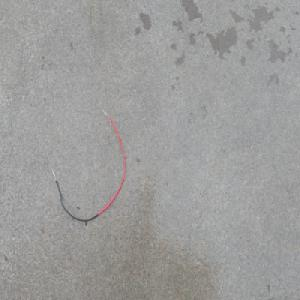Wire: (49, 107, 126, 223)
